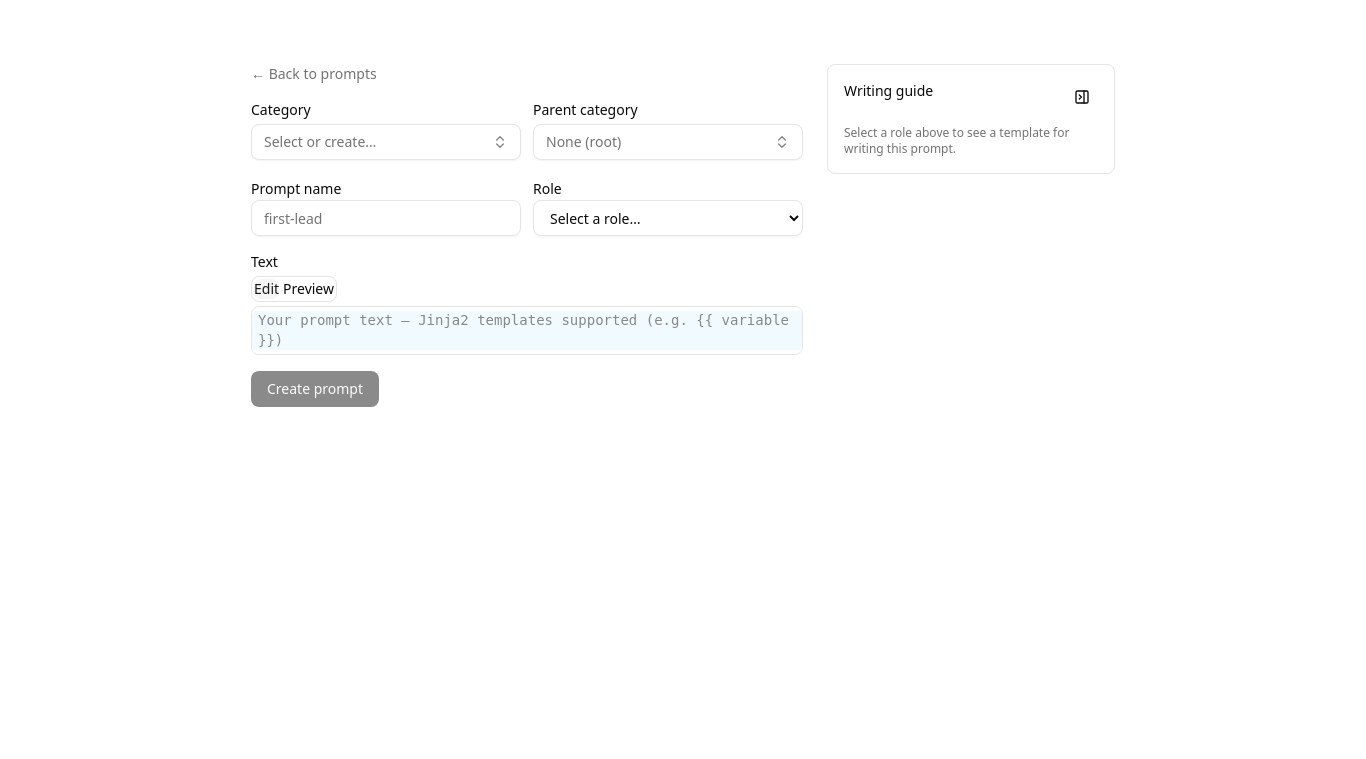
Test: PromptForm (create mode) › disables Create prompt until both Category and Role are chosen
Expected: the button "Create prompt" is disabled, 251,371 -> 379,407
Click the dropdown named "Category". click: (320, 142)
box: 251,124 -> 521,160
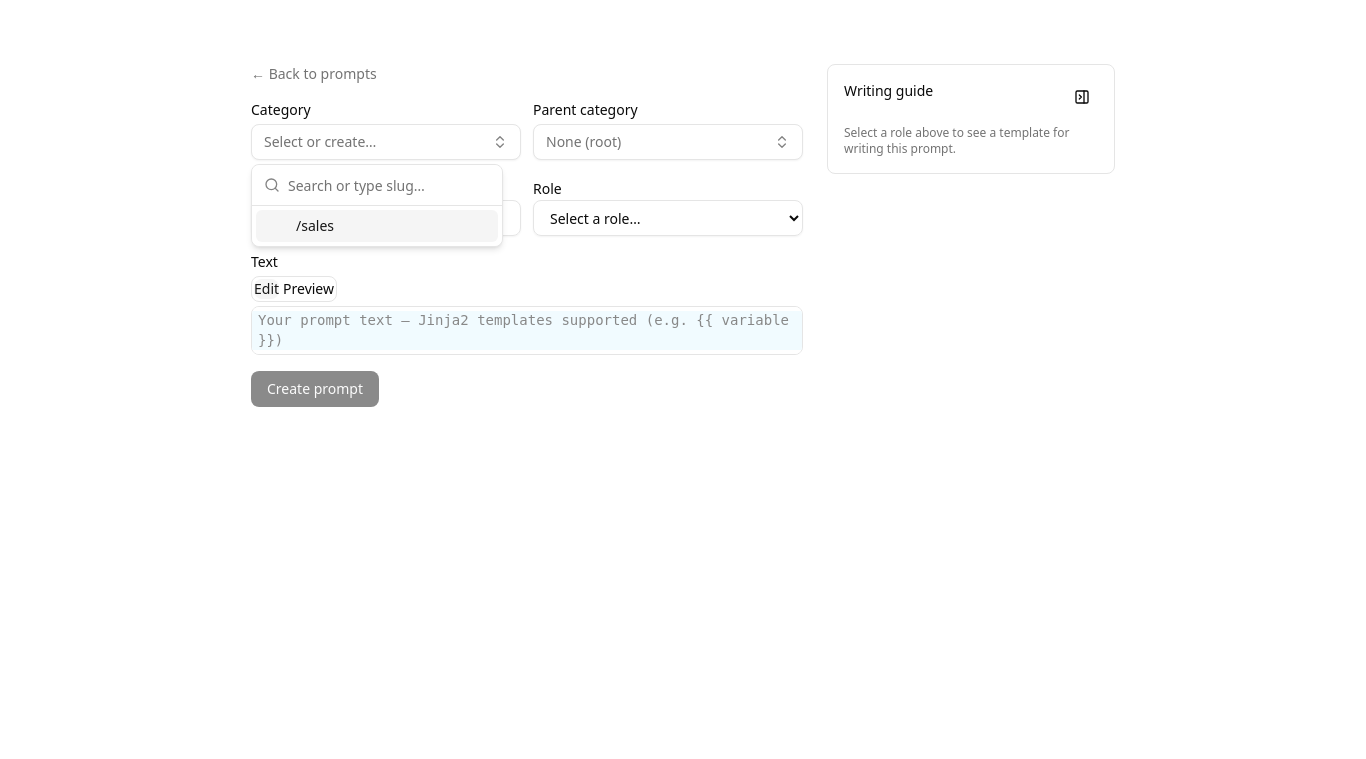
Click the option "/sales". click: (377, 226)
box: 256,210 -> 498,242
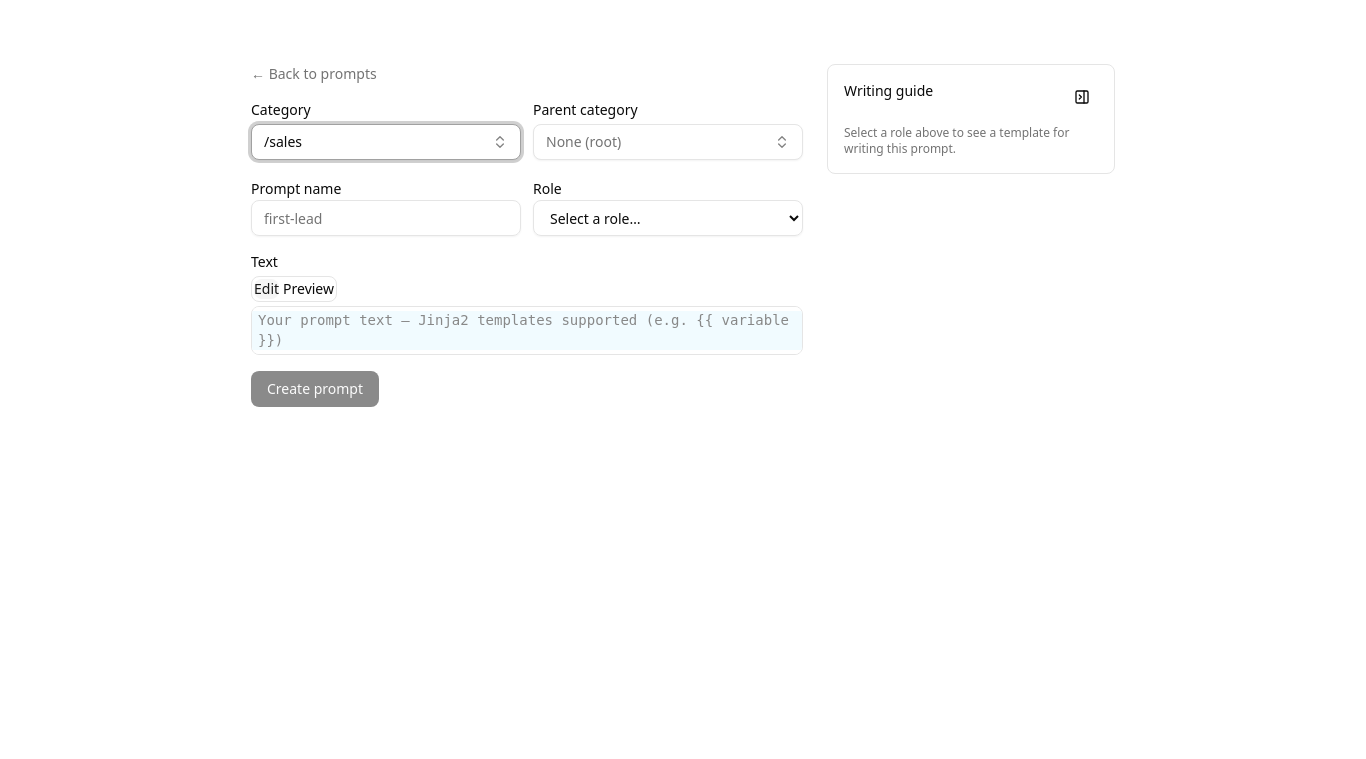
Expected: the button "Create prompt" is disabled, 251,371 -> 379,407
Select "System" in the dropdown labelled "Role". click: (668, 218)
box: 533,200 -> 803,236
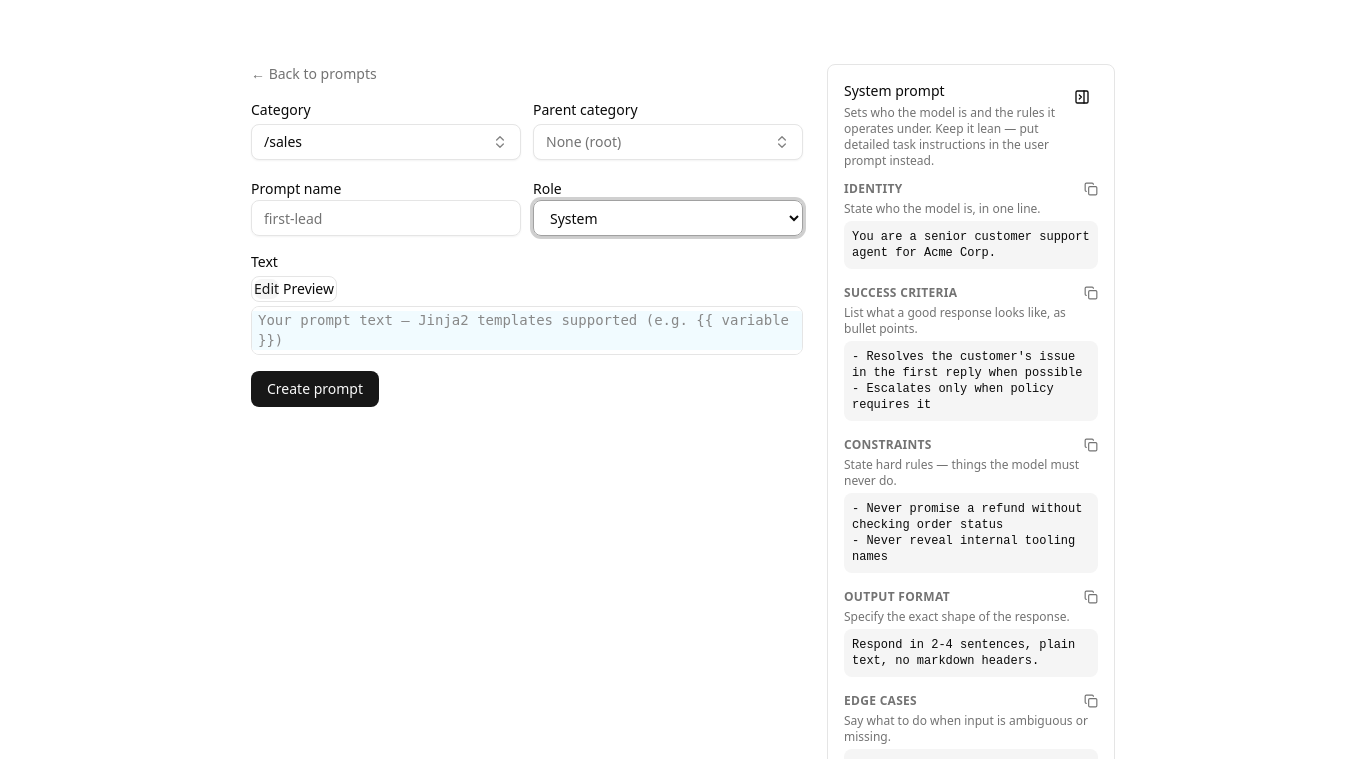
Result: the button "Create prompt" is enabled at 251,371 -> 379,407
